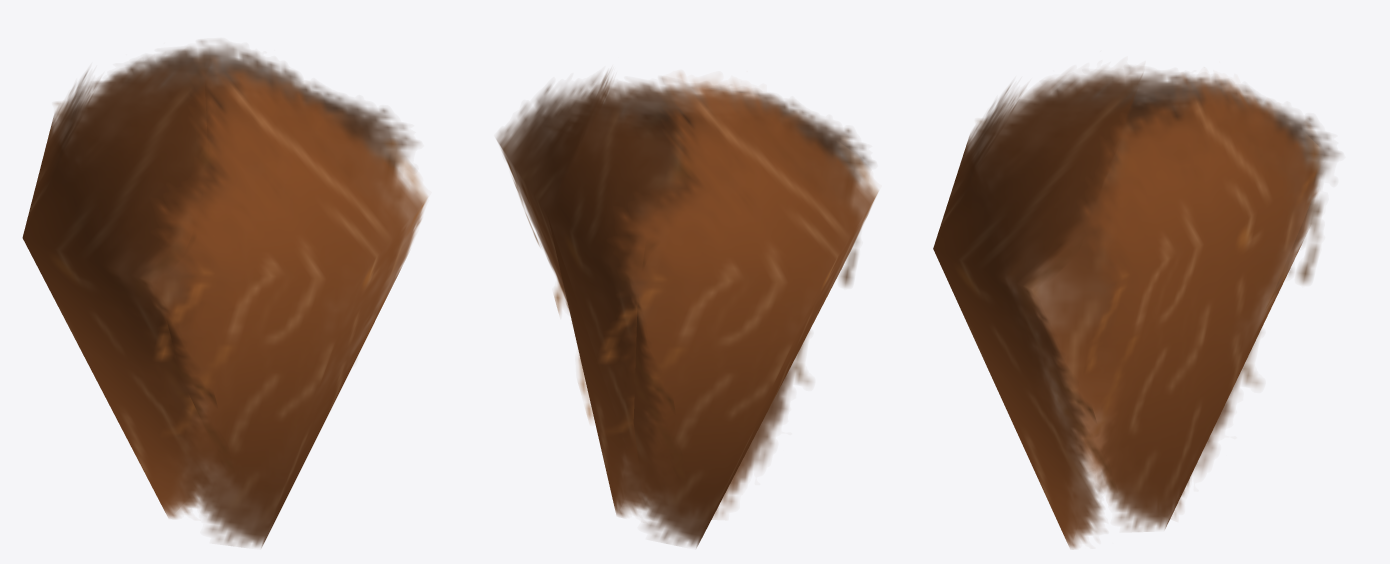
File: kvet.glb
The picture shows the model from 3 angles, left to right: view 1: azimuth 30°, elevation 25°; view 2: azimuth 150°, elevation 25°; view 3: azimuth 270°, elevation 25°; orthographic projection.
Parts seen in each view (by area): view 1: Cube, Cube.001, Cube.002; view 2: Cube.001, Cube.002, Cube; view 3: Cube.002, Cube, Cube.001.
Boxes of the visible parts, <box> form: Cube: <box>155,58,427,547</box>; Cube.001: <box>22,60,233,518</box>; Cube.002: <box>55,40,418,440</box>; Cube.001: <box>599,73,878,547</box>; Cube.002: <box>496,72,685,517</box>; Cube: <box>554,78,873,519</box>; Cube.002: <box>1083,76,1320,531</box>; Cube: <box>933,69,1142,548</box>; Cube.001: <box>978,66,1340,517</box>.
Size of the model in its own units: 0.6284 by 0.7534 by 0.6234.
Materials: 1 (1 with a texture image).
